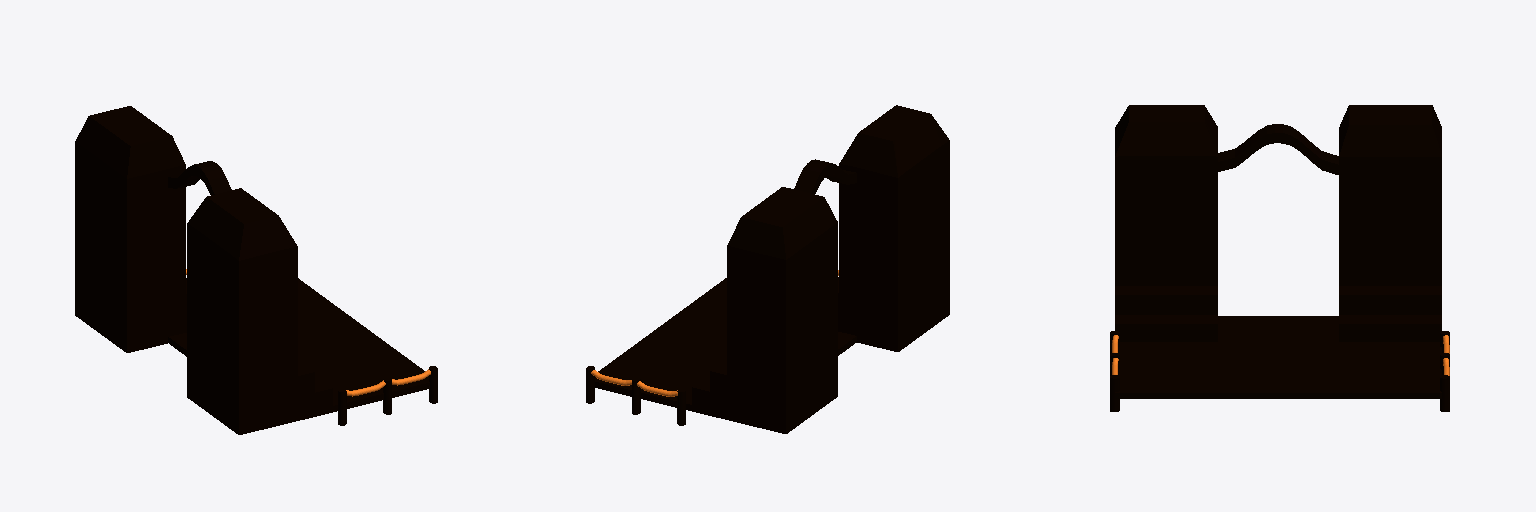
The model's file is AS_Door.obj.
The picture shows the model from 3 angles: view 1: azimuth 30°, elevation 25°; view 2: azimuth 150°, elevation 25°; view 3: azimuth 270°, elevation 25°; orthographic projection.
Visible parts, largest first — view 1: Door, Posts_2; view 2: Door, Posts_2; view 3: Door, Posts_2.
Part boxes in pixels (x1,y1,x2,y2): Door: (75, 106, 429, 434); Posts_2: (338, 366, 437, 425); Door: (595, 105, 949, 433); Posts_2: (586, 366, 685, 425); Door: (1115, 105, 1441, 398); Posts_2: (1110, 331, 1449, 411).
Size of the model in its own units: 47.29 by 49.25 by 70.05.